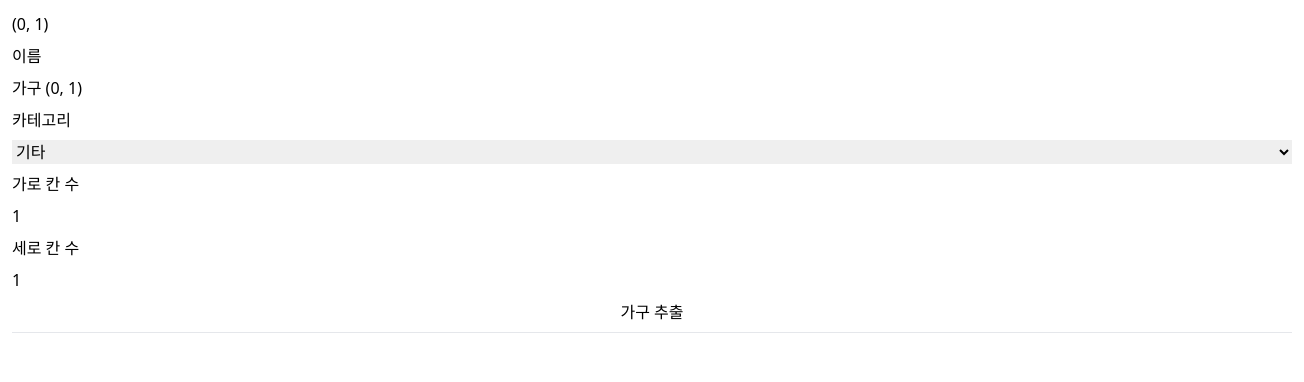
Scenario: FurnitureExtractionPanel › extracts furniture using the default metadata when the user doesn't edit anything
Click the button "가구 추출". click: point(652, 312)
box: 12,300 -> 1292,324
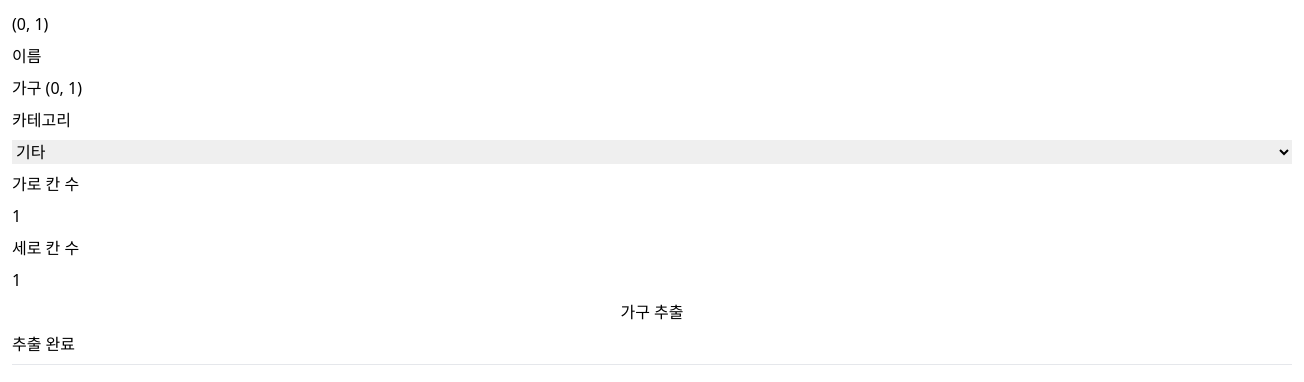
Result: the text "추출 완료" is shown at 12,333 -> 75,355
